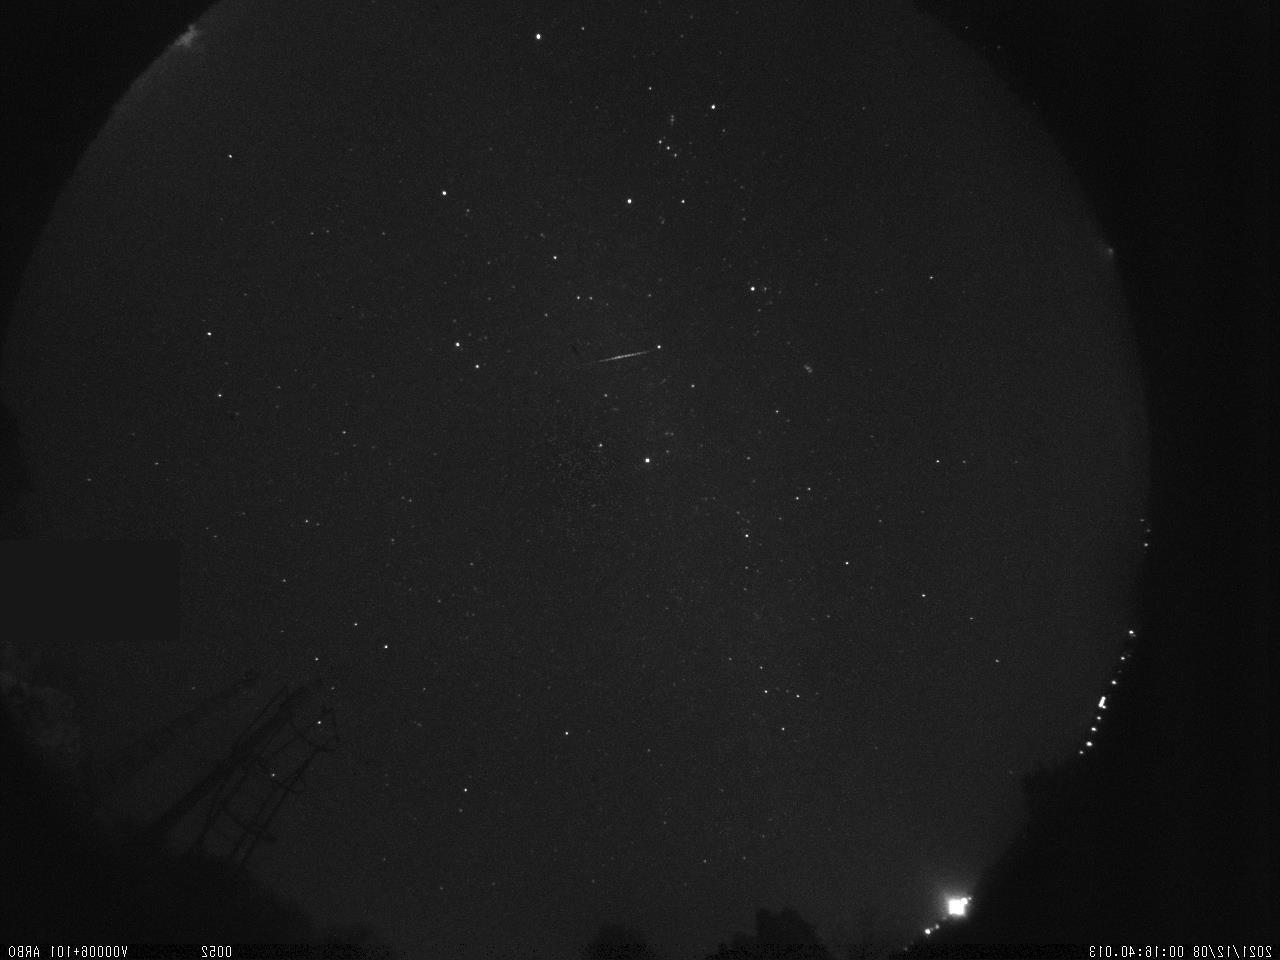meteor: (563, 328, 683, 378)
